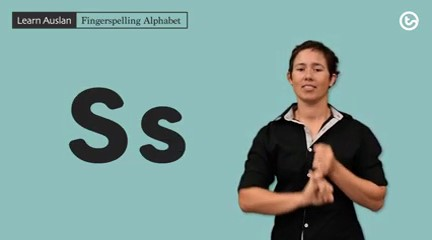S: (296, 136, 342, 210)
